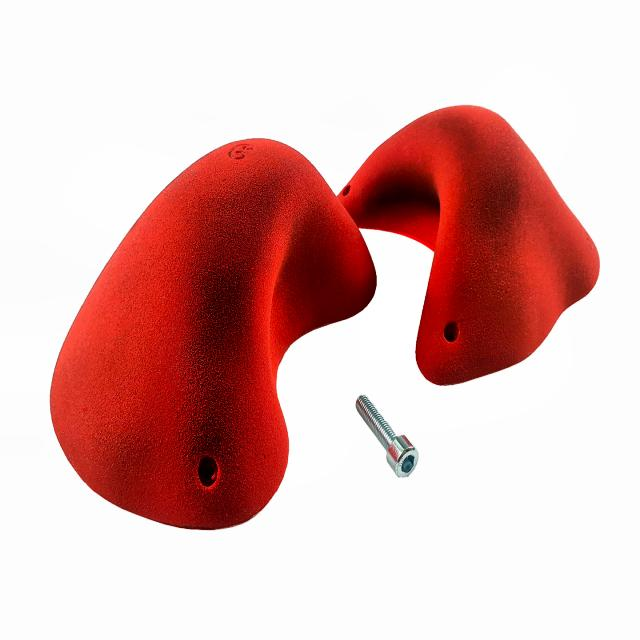Hold: (32, 128, 388, 545), (305, 92, 612, 400)
